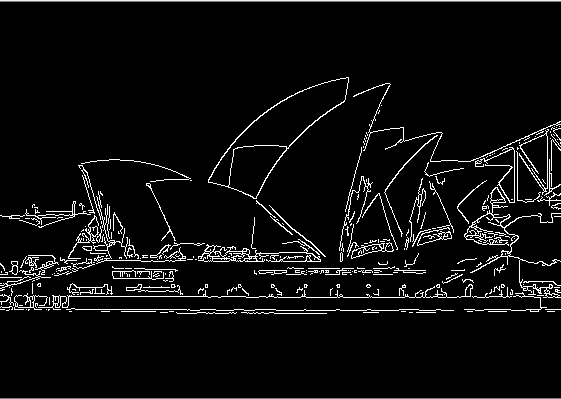opera house: (62, 61, 533, 274)
